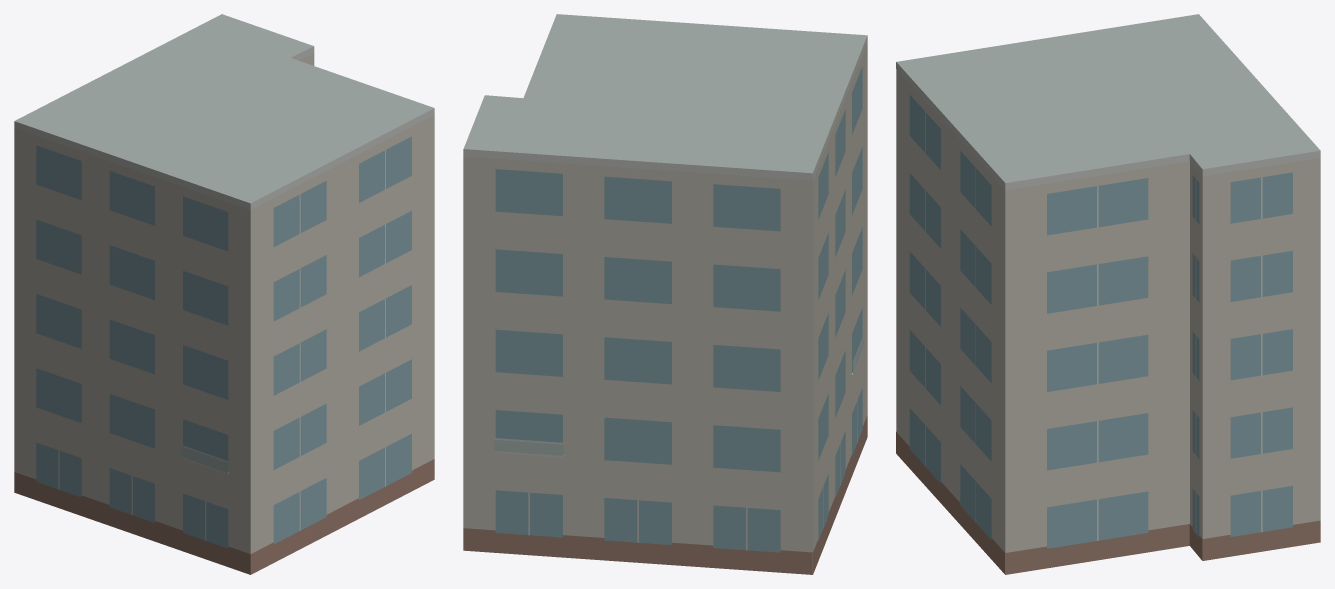
The model's file is survey-upis-32947515.glb.
The picture shows the model from 3 angles, left to right: view 1: azimuth 30°, elevation 25°; view 2: azimuth 150°, elevation 25°; view 3: azimuth 270°, elevation 25°; orthographic projection. The views are drawn at different scales.
Visible parts, largest first — view 1: survey-upis-32947515.tmp; view 2: survey-upis-32947515.tmp; view 3: survey-upis-32947515.tmp.
Part boxes in pixels (x1=…): survey-upis-32947515.tmp: x1=14, y1=14, x2=434, y2=574; survey-upis-32947515.tmp: x1=463, y1=14, x2=867, y2=574; survey-upis-32947515.tmp: x1=896, y1=14, x2=1320, y2=574.
Size of the model in its own units: 12.42 by 13.4 by 13.17.
